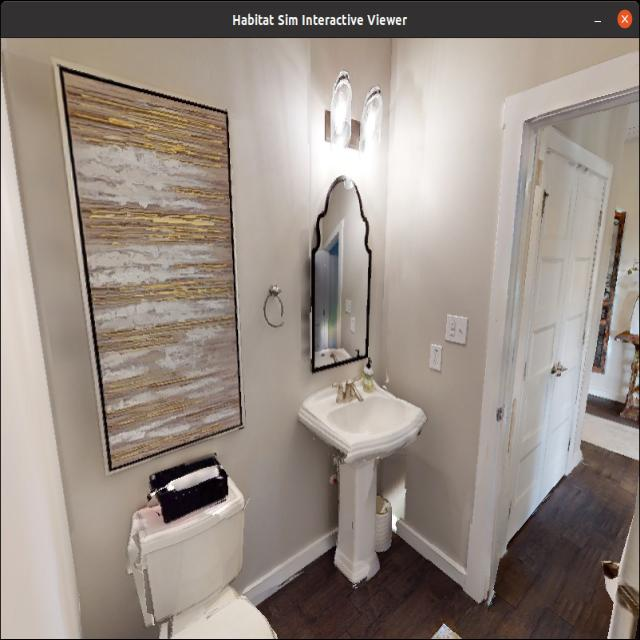sink: (300, 353, 416, 594)
toilet: (111, 475, 288, 640)
